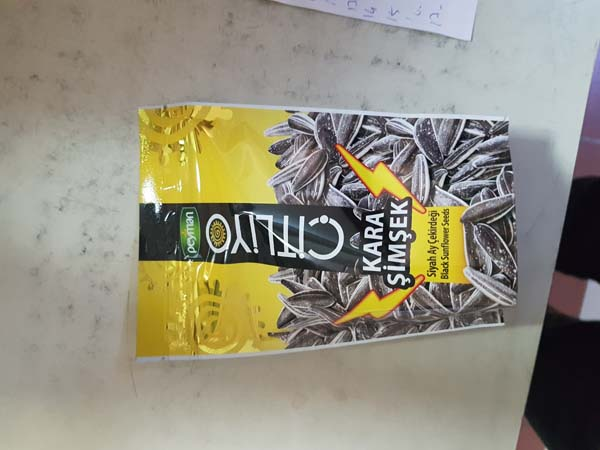citliyokarasimsek: (133, 97, 523, 366)
